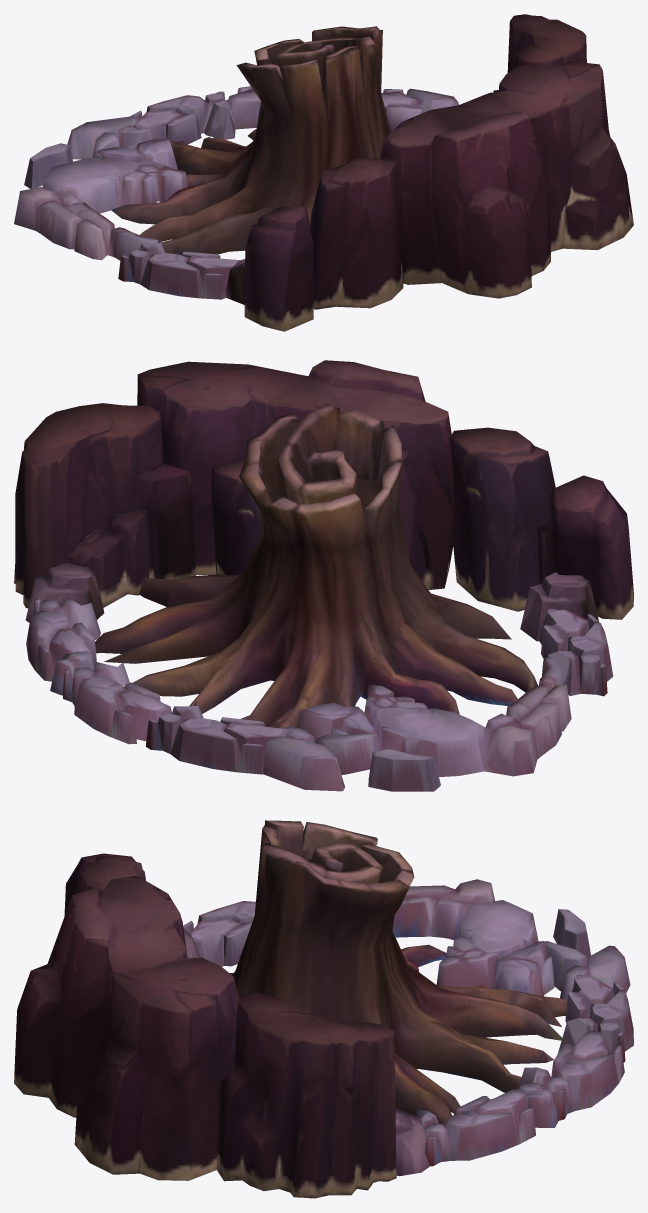
File: niuqushugen_01.FBX
3 views of the same model, one above another, from view 1: azimuth 30°, elevation 25°; view 2: azimuth 150°, elevation 25°; view 3: azimuth 270°, elevation 25° (orthographic). The views are drawn at different scales.
Visible parts, largest first — view 1: niuqushugen_01; view 2: niuqushugen_01; view 3: niuqushugen_01.
Boxes of the visible parts, x1,y1,x2,y2 form: niuqushugen_01: (14, 14, 633, 331); niuqushugen_01: (14, 360, 633, 791); niuqushugen_01: (14, 820, 633, 1198).
Size of the model in its own units: 25.34 by 8.8 by 22.92.
